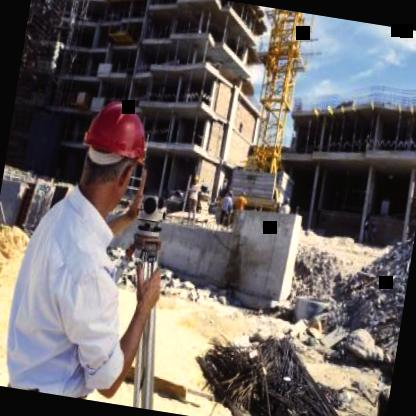helmet: (64, 85, 162, 220)
